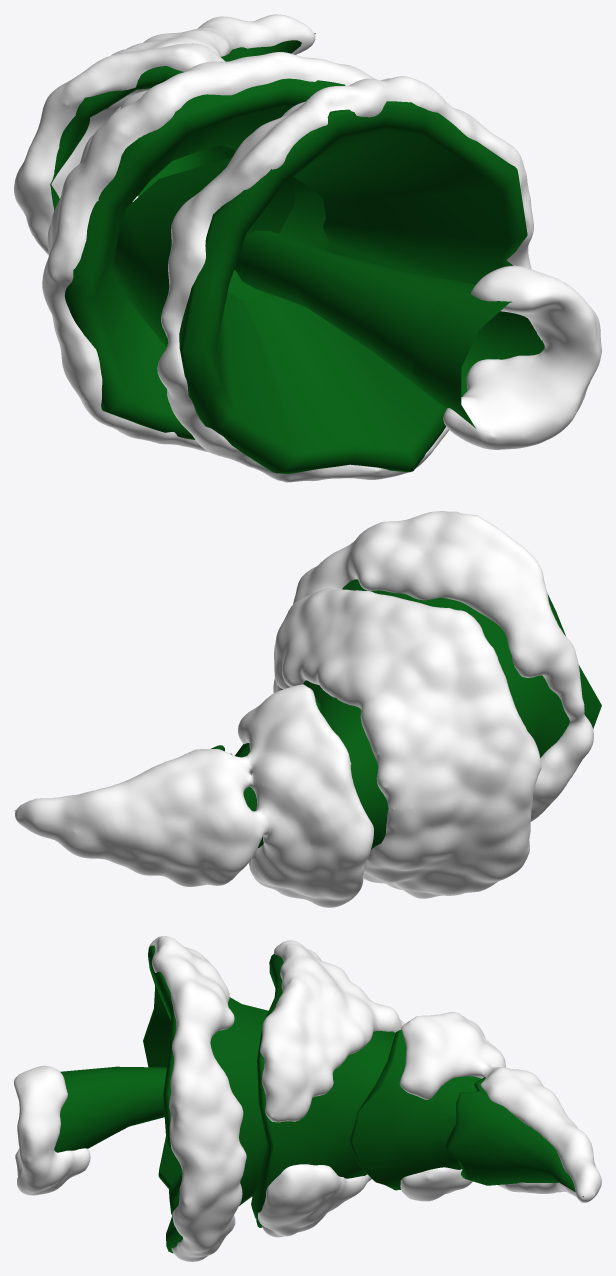
File: TestExporttreewithsnow.fbx
The picture shows the model from 3 angles, top to bottom: view 1: azimuth 30°, elevation 25°; view 2: azimuth 150°, elevation 25°; view 3: azimuth 270°, elevation 25°; orthographic projection. The views are drawn at different scales.
Parts seen in each view (by area): view 1: BentTree_V1.001; view 2: BentTree_V1.001; view 3: BentTree_V1.001.
Boxes of the visible parts, x1,y1,x2,y2 form: BentTree_V1.001: (14,14,601,482); BentTree_V1.001: (14,511,601,907); BentTree_V1.001: (14,936,601,1261).
Bounding box in the file's own units: 3.5 × 2.98 × 5.4.
